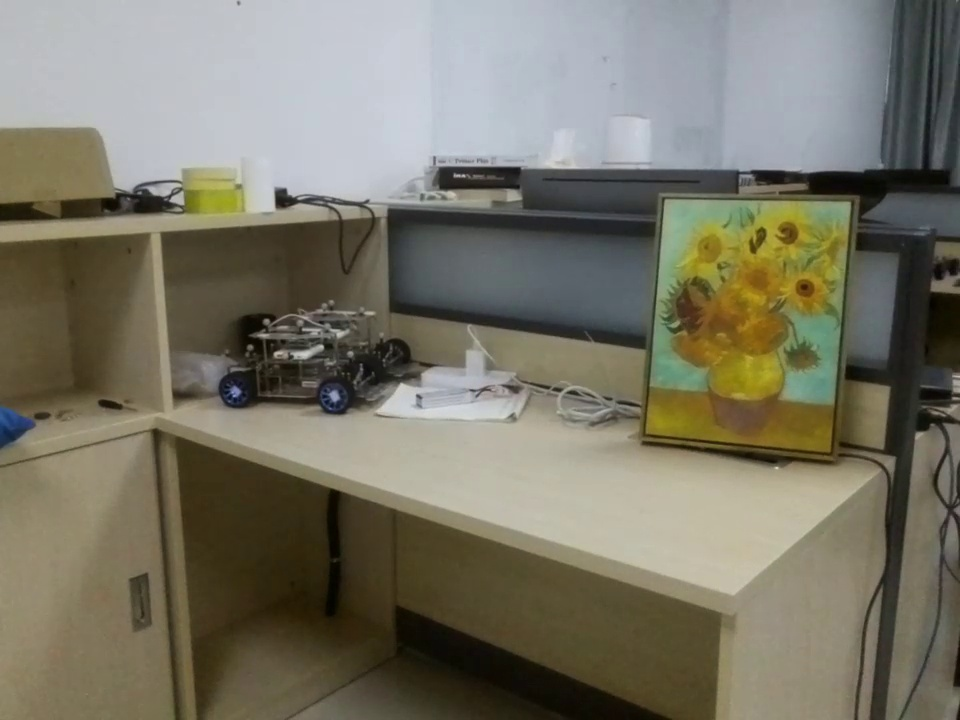painting: (643, 193, 864, 463)
